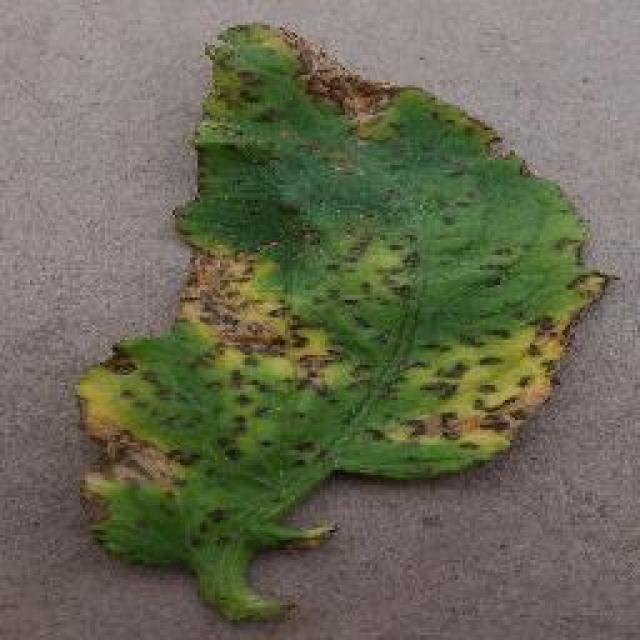Tomato___Bacterial_spot: (62, 17, 620, 626)
